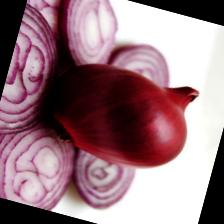onion: (36, 51, 201, 182)
